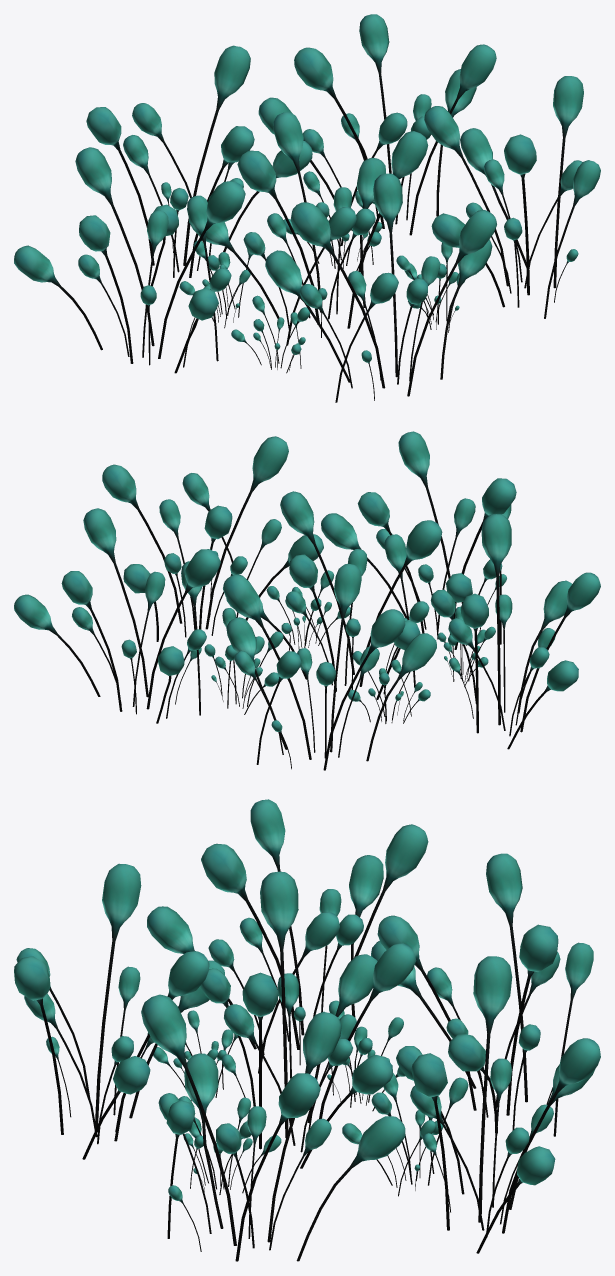
The model's file is Bulb_Veel.fbx.
3 views of the same model, one above another, from view 1: azimuth 30°, elevation 25°; view 2: azimuth 150°, elevation 25°; view 3: azimuth 270°, elevation 25° (orthographic). The views are drawn at different scales.
Parts seen in each view (by area): view 1: Cube; view 2: Cube; view 3: Cube.
Part boxes in pixels (x1,y1,x2,y2): Cube: (14, 14, 600, 402); Cube: (14, 431, 600, 770); Cube: (14, 799, 600, 1261).
Size of the model in its own units: 474 by 162 by 382.
Materials: 1 (1 with a texture image).
